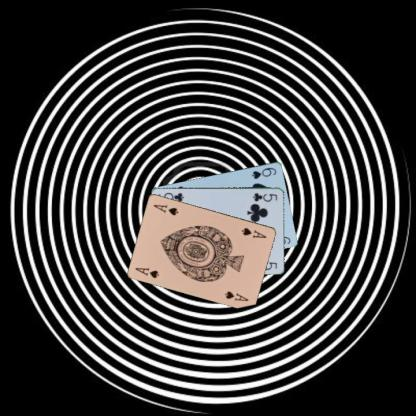5c: (250, 190, 279, 203)
6s: (250, 165, 277, 180)
As: (239, 225, 268, 239), (133, 265, 161, 279)
